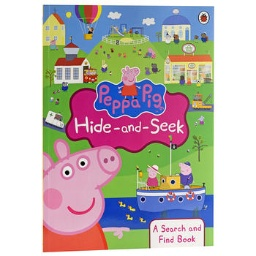Peppa: (42, 138, 124, 256), (117, 65, 142, 101)
